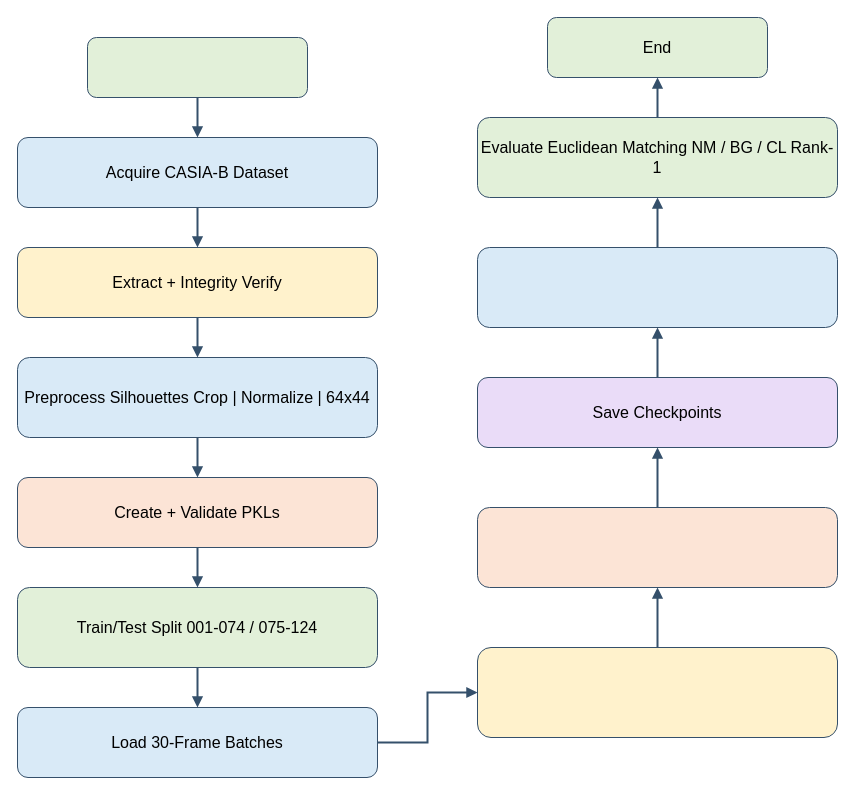
Image size: 855x795. Some labels were removed from this diagram. Each missing label, with the box of its shape:
Build Gallery/Probe Embeddings: (476, 246, 838, 328)
Compute Mapping + Triplet Loss: (476, 506, 838, 588)
Start: (86, 36, 308, 98)
Train DeepGait Generate + Encoder + AFRE/TPFE: (476, 646, 838, 738)
